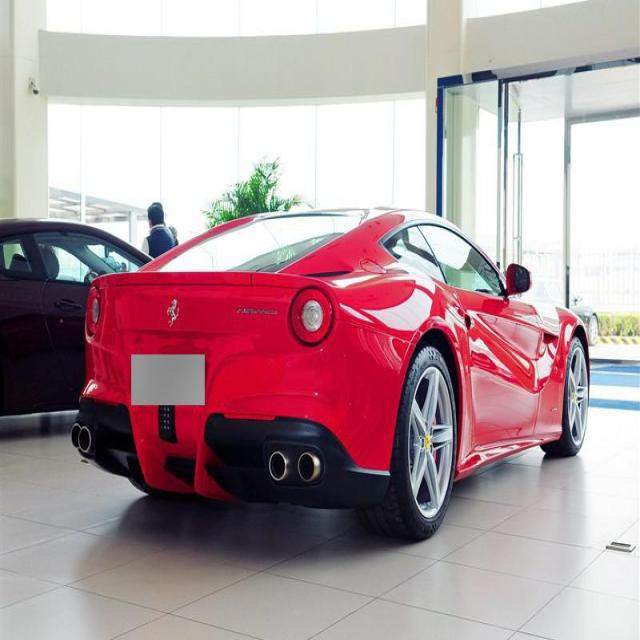back_glass: (154, 213, 366, 278)
back_left_side_light: (84, 284, 102, 341)
back_right_side_light: (289, 284, 336, 348)
front_right_side_door: (414, 216, 544, 457)
front_right_side_mirror: (502, 262, 534, 296)
rear_bumper: (70, 334, 413, 513)
wheel: (362, 344, 458, 542), (538, 334, 590, 457)
